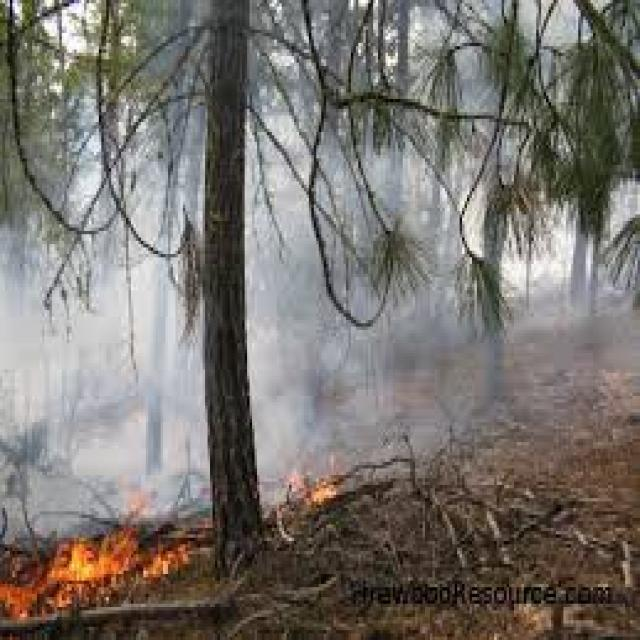Fire: (0, 504, 210, 630), (282, 431, 348, 522)
Smoke: (0, 302, 216, 580), (251, 238, 456, 524)
